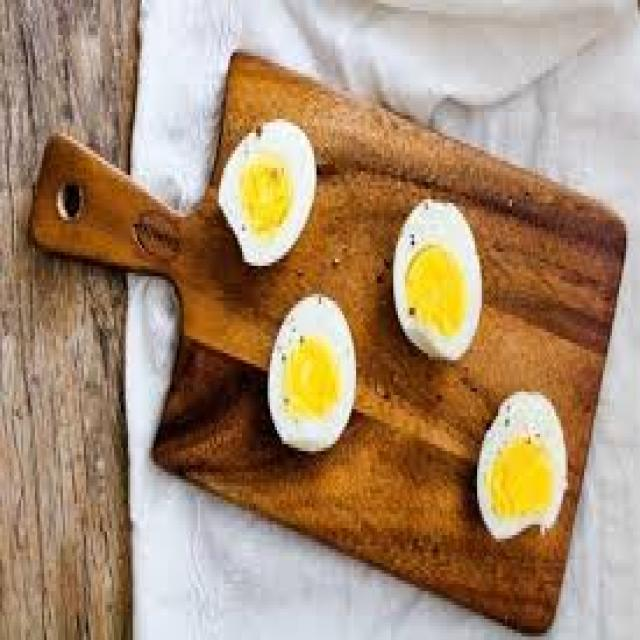boiled egg: (195, 97, 581, 581)
